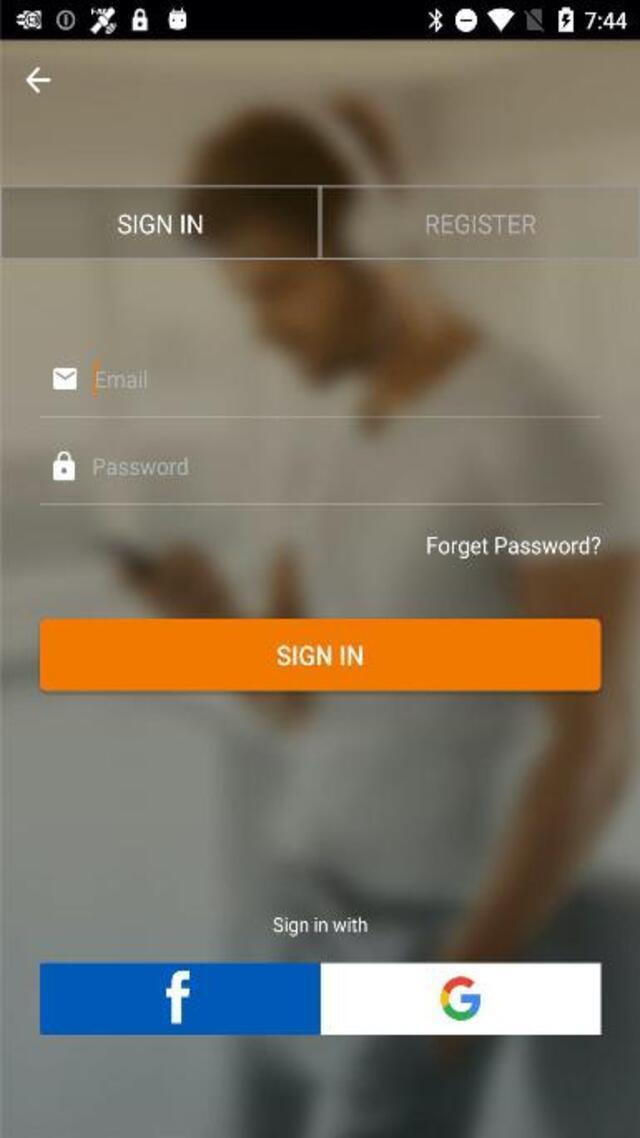Icon: (23, 67, 50, 94), (52, 451, 74, 481), (54, 368, 76, 389)
Text: (427, 536, 600, 559), (420, 209, 542, 241), (274, 641, 368, 670), (115, 211, 206, 239), (274, 916, 368, 937), (92, 456, 187, 476), (96, 368, 148, 388)
TextButton: (40, 618, 602, 691), (0, 185, 319, 260), (321, 185, 640, 260), (39, 964, 320, 1035), (320, 964, 601, 1035)
